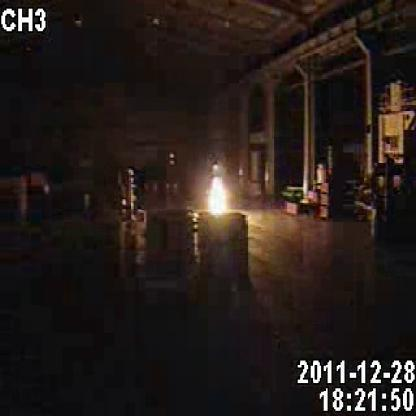fire: (190, 166, 247, 237)
